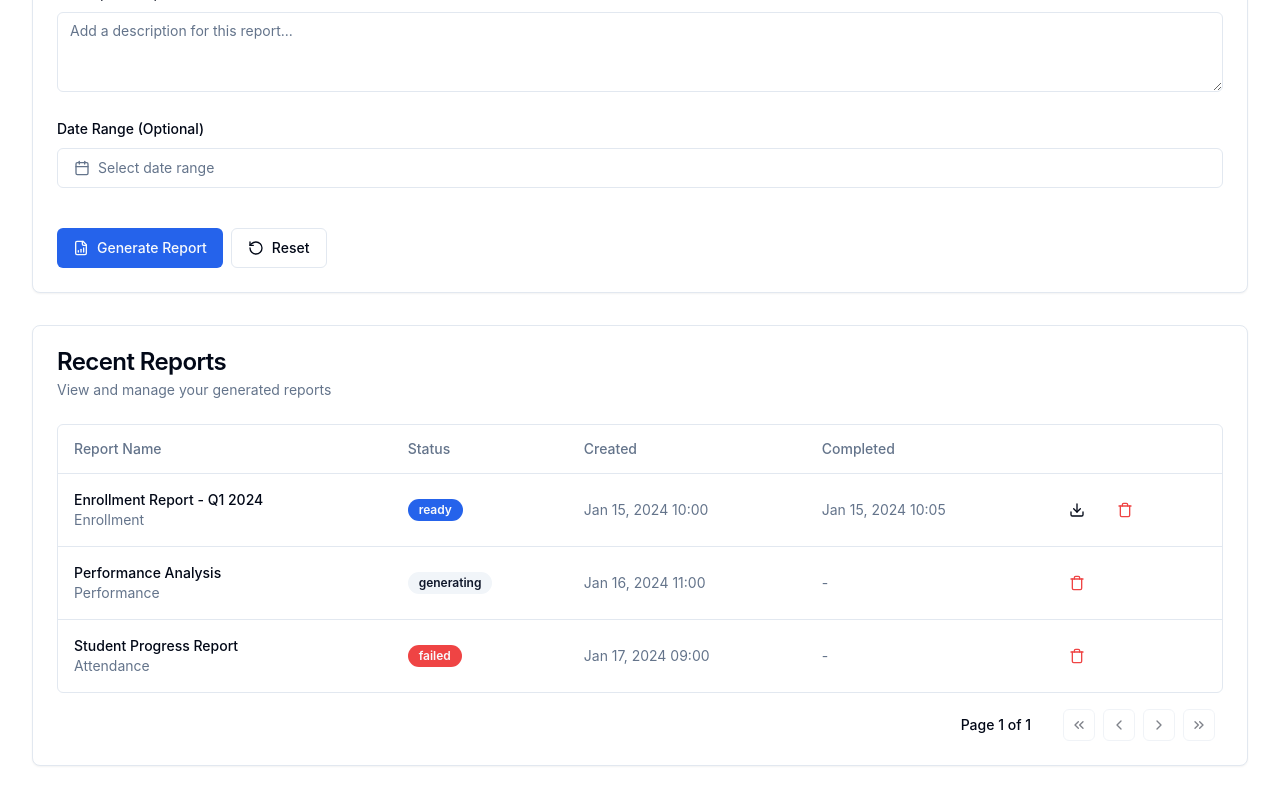
Scenario: ReportBuilderPage › Delete Report › should show delete confirmation dialog
(page scrolled)
Expected: the text "Enrollment Report - Q1 2024" is shown, [74, 490, 263, 508]
Click the button named "delete" in the row of "Enrollment Report - Q1 2024". click: (1125, 510)
box: [1105, 492, 1145, 528]
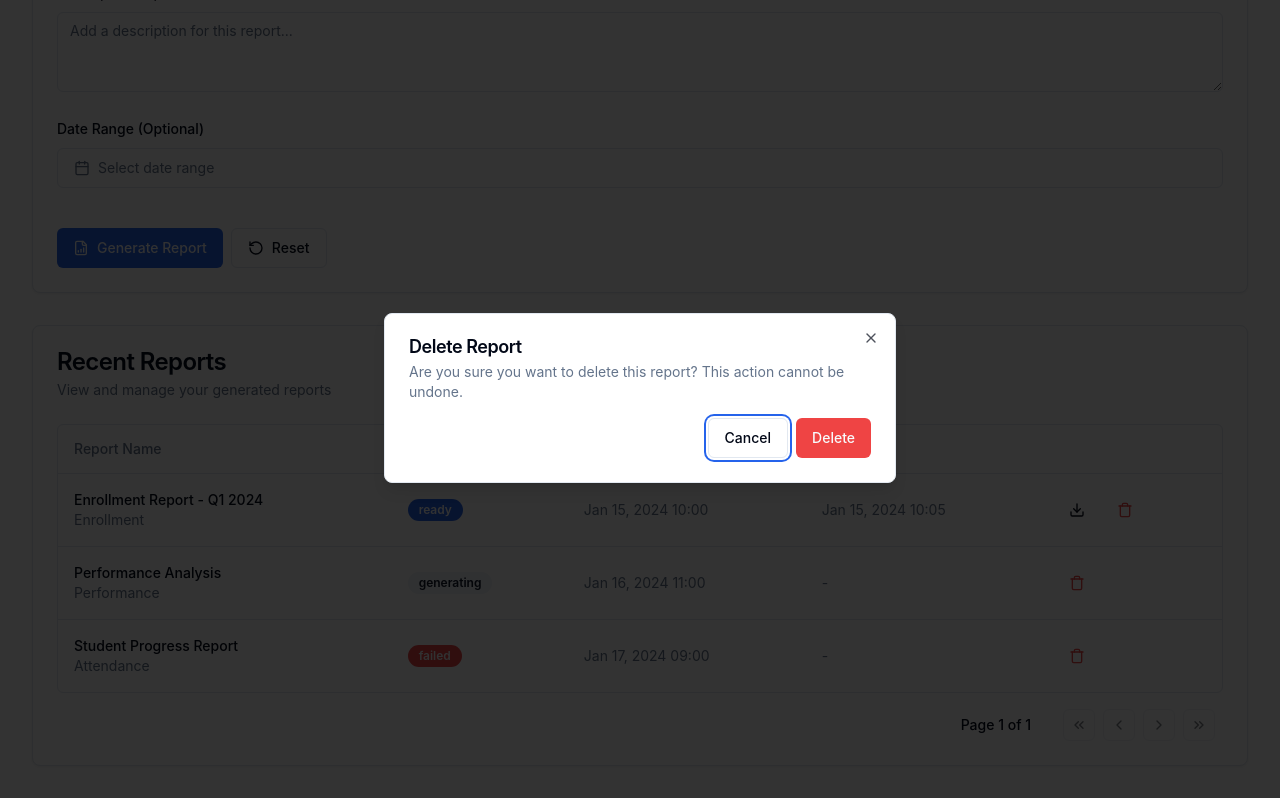
Expected: the text "Are you sure" is shown, [409, 363, 844, 400]
